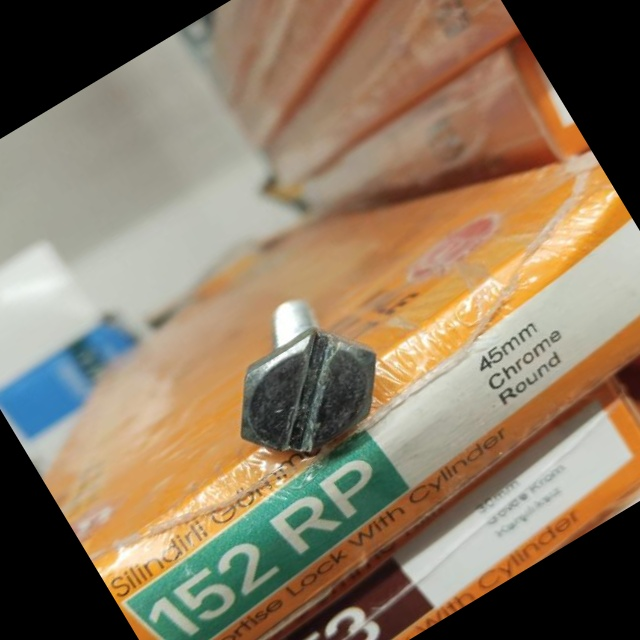duz: (210, 304, 405, 482)
